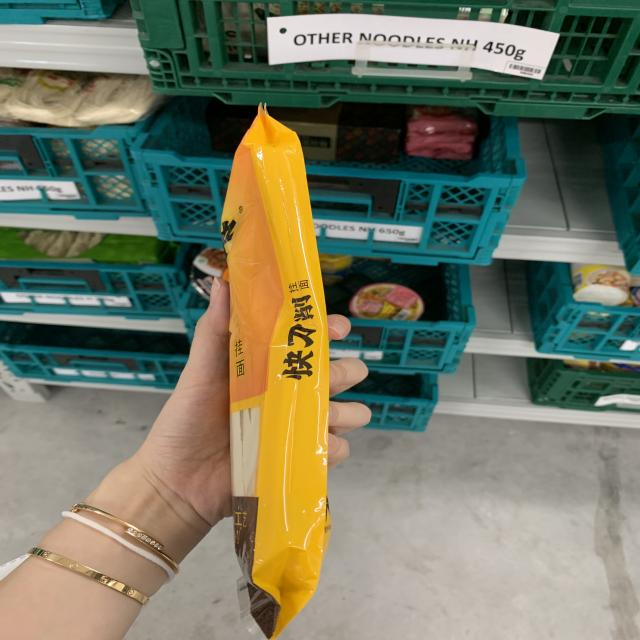object_name: (233, 140, 315, 603)
